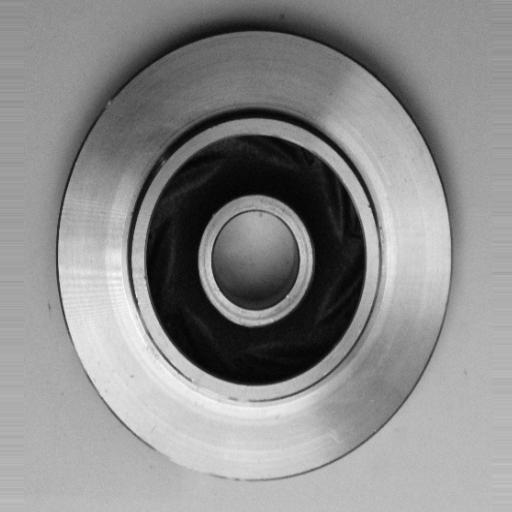scratch: (185, 378, 267, 405)
unpolished_casting: (53, 26, 456, 488)
